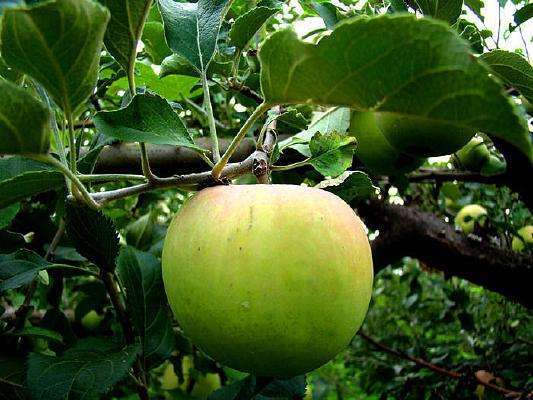unripe: (157, 170, 384, 384)
